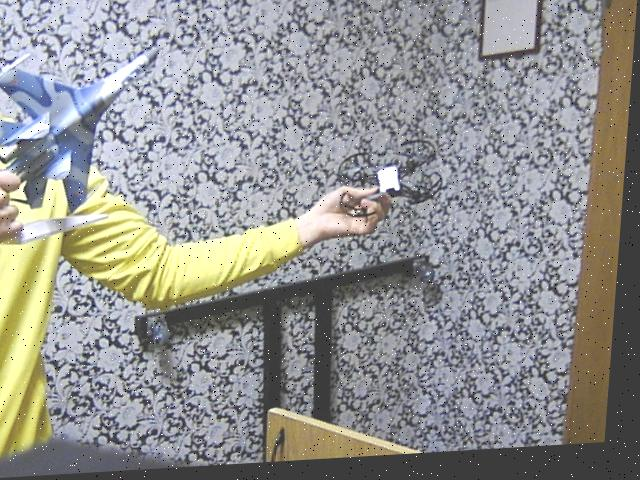drone: (336, 128, 461, 228)
